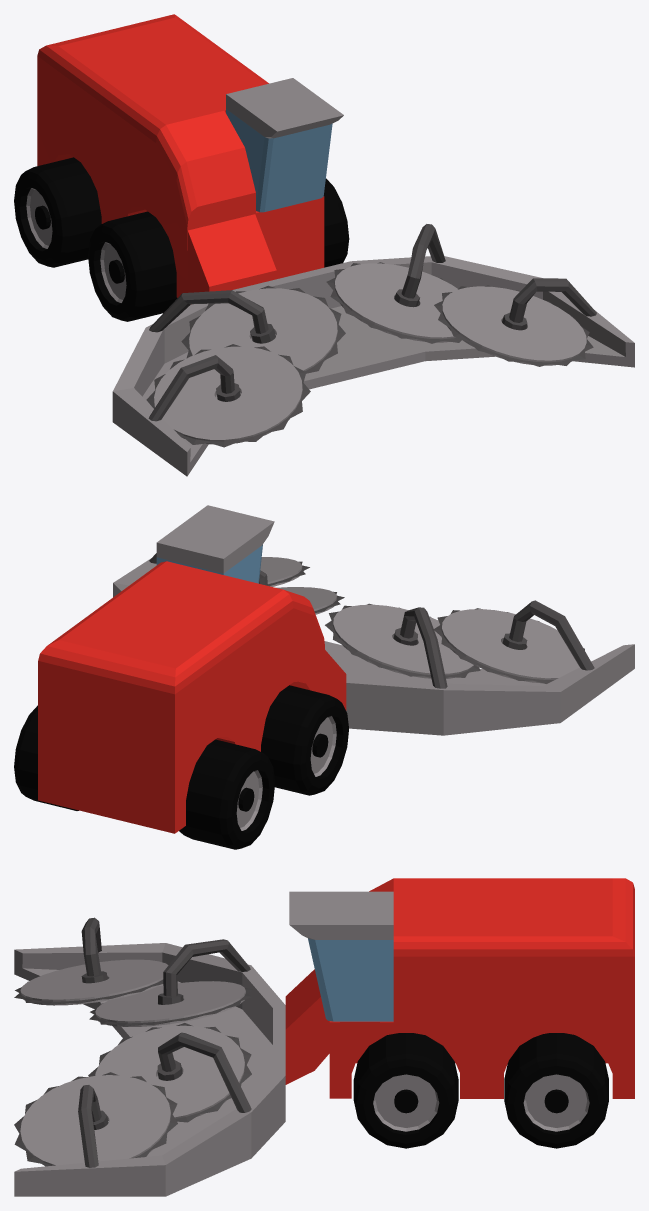
The model's file is combine_4Saws.fbx.
The picture shows the model from 3 angles, top to bottom: view 1: azimuth 30°, elevation 25°; view 2: azimuth 150°, elevation 25°; view 3: azimuth 270°, elevation 25°; orthographic projection.
Parts seen in each view (by area): view 1: Body, saw1, saw4, saw2, wheel2, wheel4, saw3, wheel1; view 2: Body, wheel4, wheel2, saw1, saw2, wheel3, saw4, saw3; view 3: Body, saw4, wheel1, wheel3, saw3, saw2, saw1.
Part boxes in pixels (x1,y1,x2,y2): Body: (37,14,634,476); saw1: (146,344,310,447); saw4: (434,285,593,366); saw2: (181,285,345,373); wheel2: (88,211,177,321); wheel4: (14,157,101,267); saw3: (326,262,461,343); wheel1: (323,178,349,267); Body: (38,505,634,833); wheel4: (179,739,274,849); wheel2: (261,685,348,795); saw1: (434,608,584,683); saw2: (325,603,480,678); wheel3: (14,705,78,810); saw4: (260,557,309,586); saw3: (276,587,344,614); Body: (14,878,634,1196); saw4: (14,1072,177,1166); wheel1: (353,1033,458,1148); wheel3: (504,1033,608,1148); saw3: (88,1023,251,1122); saw2: (89,981,252,1026); saw1: (14,959,168,1005).
Bounding box in the file's own units: 210 × 91.33 × 248.
